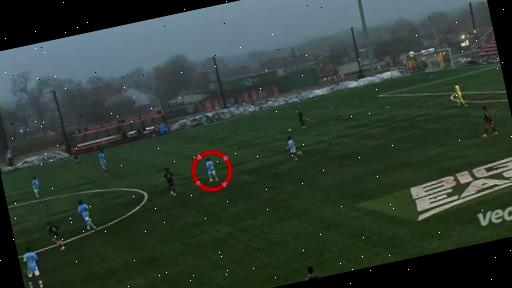highlight_overlay: (188, 144, 238, 197)
